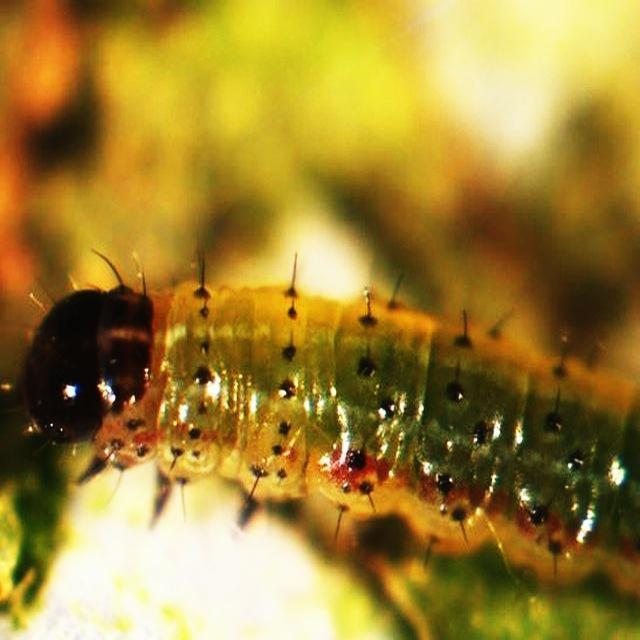gusano_cogollero: (5, 249, 640, 576)
